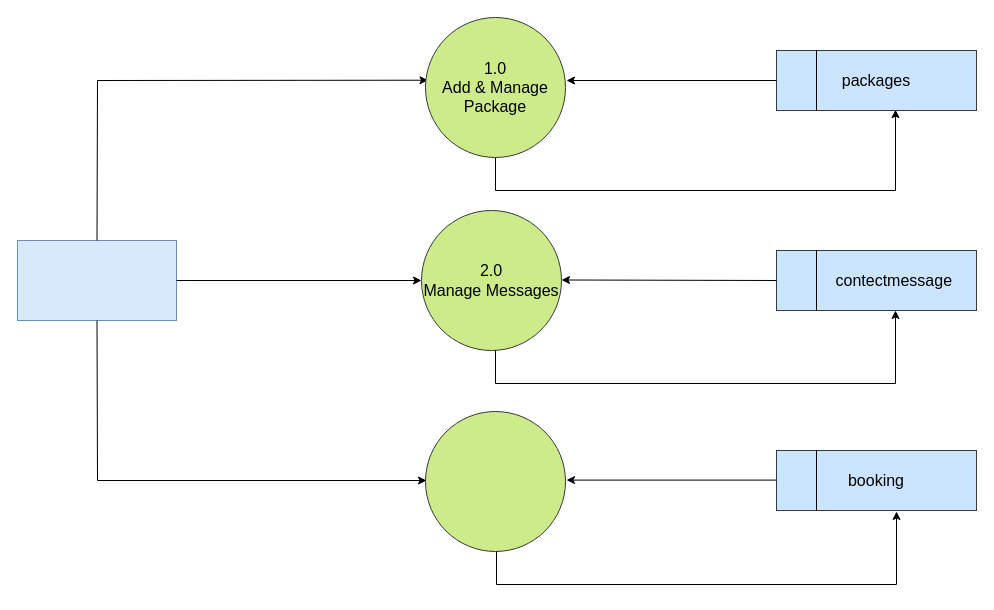
The diagram is 994 pixels wide and 610 high, and some of its shapes have lost their labels. Each missing label, with the box of its shape:
3.0 Manage Booking: (424, 410, 566, 552)
Admin: (16, 240, 176, 320)
